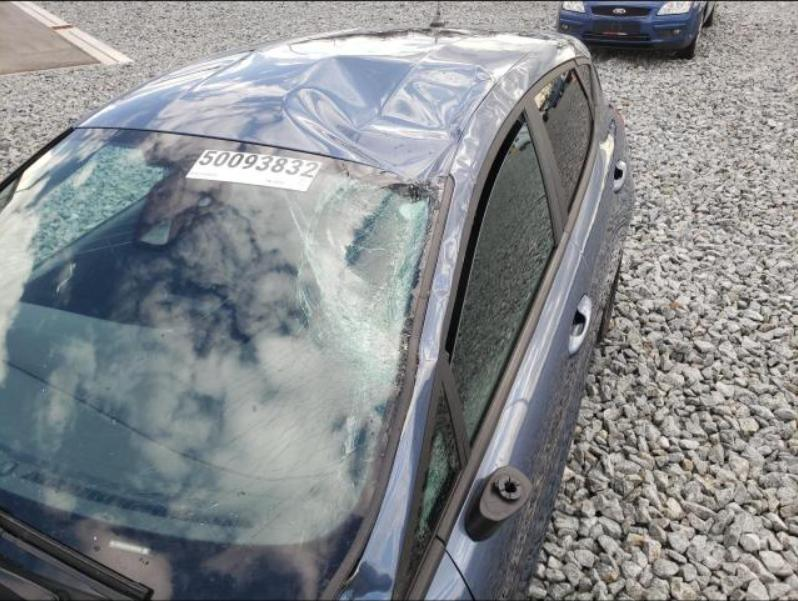Back-door: (526, 63, 634, 304)
Back-window: (532, 67, 594, 227), (579, 65, 594, 107)
Fender: (407, 533, 475, 600)
Front-door: (436, 99, 605, 600)
Front-window: (452, 123, 555, 447), (405, 382, 462, 598)
Mirror: (466, 467, 531, 542)
Roof: (71, 28, 590, 183)
Tail-light: (609, 104, 625, 129)
Windshield: (0, 128, 445, 600)
